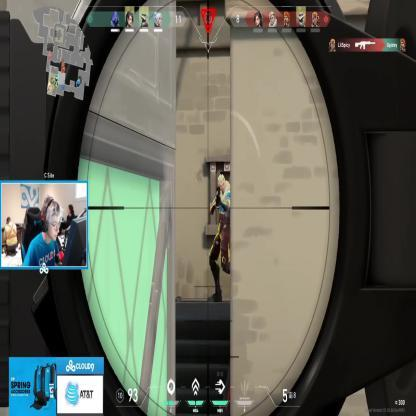enemy: (208, 174, 240, 303)
enemy_head: (218, 174, 226, 193)
